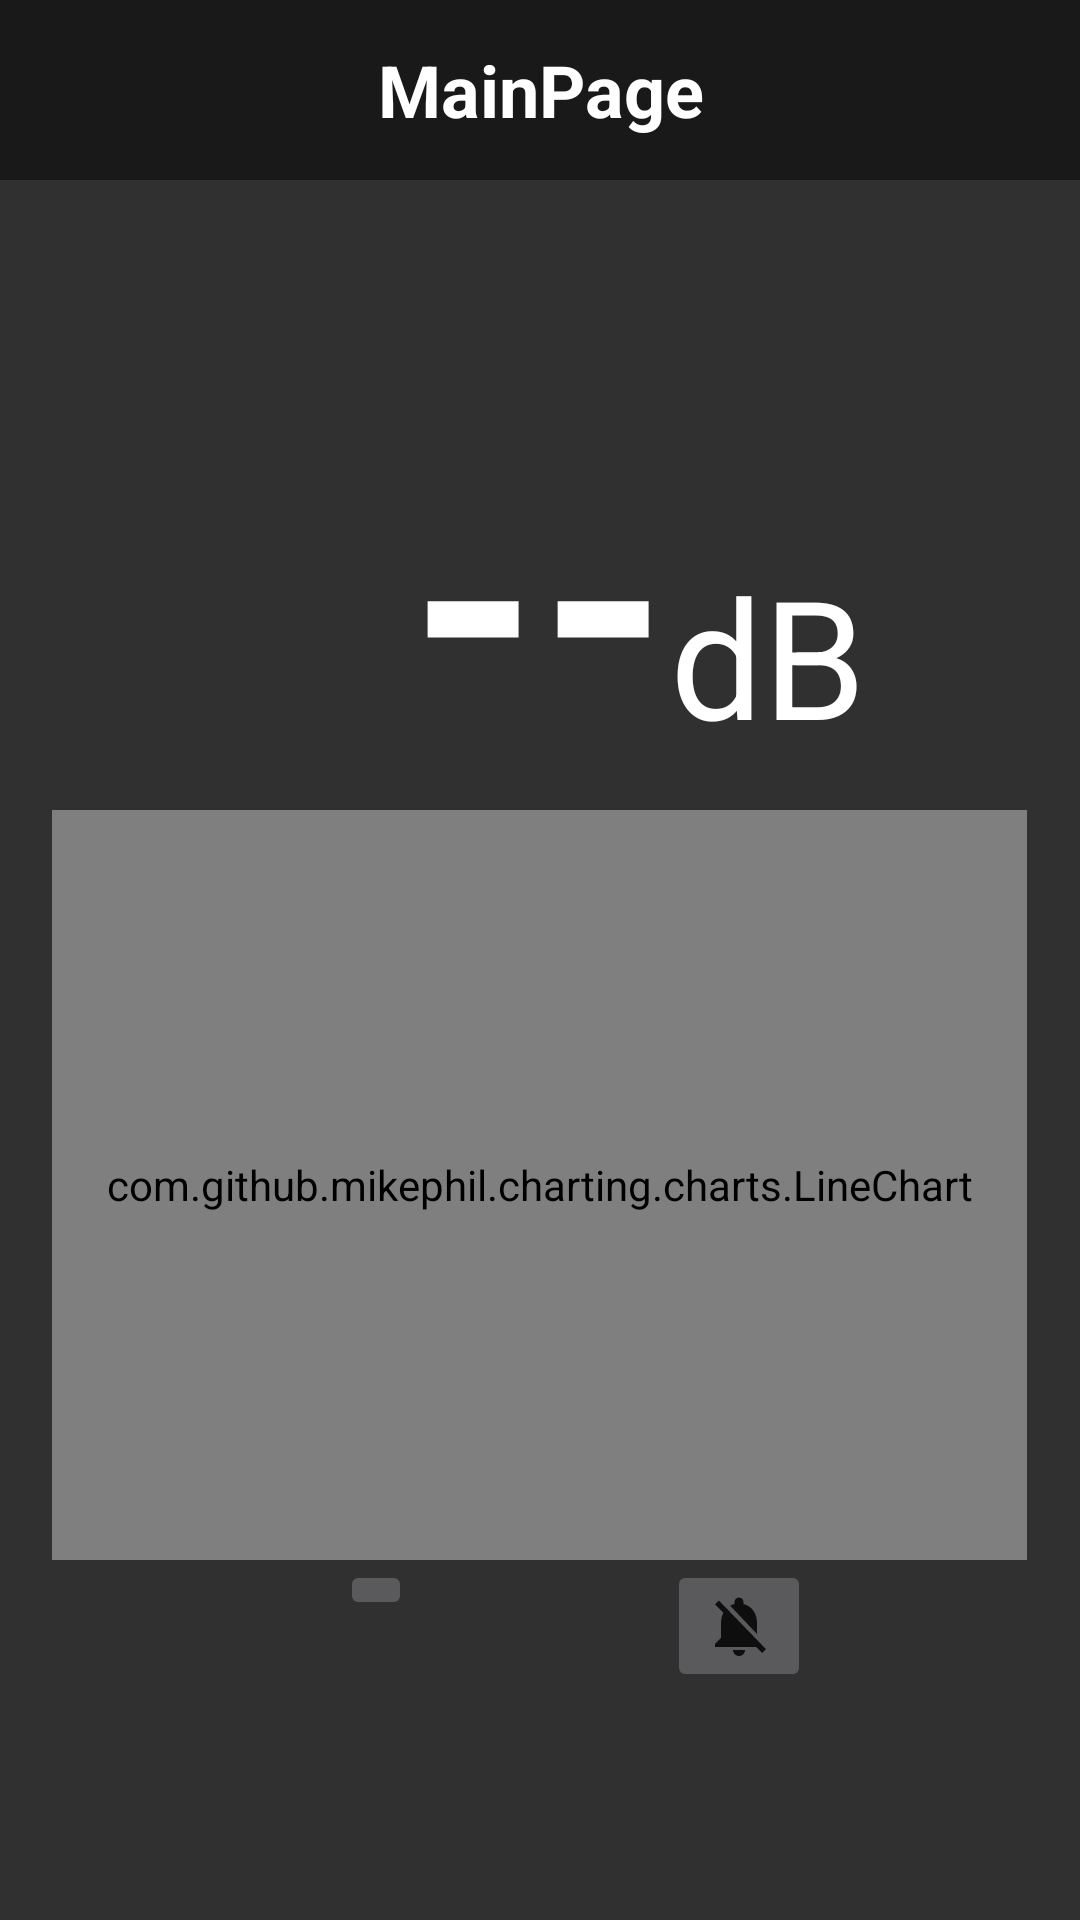

Locate icon controls on the screen. Image size 1080px×1920px, boxes as [x1,y1,x2,y2].
notifications off: [679,1578,799,1674]
